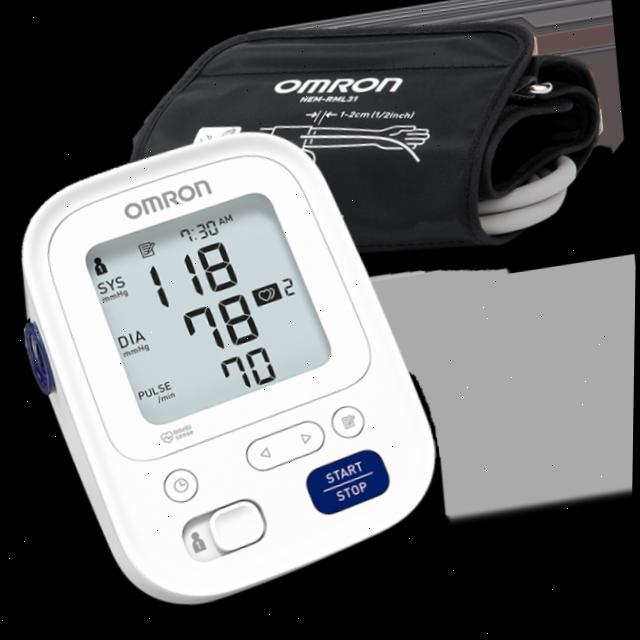dia: (177, 288, 272, 366)
pul: (213, 340, 286, 403)
ssd: (84, 184, 336, 430)
sys: (141, 235, 248, 318)
